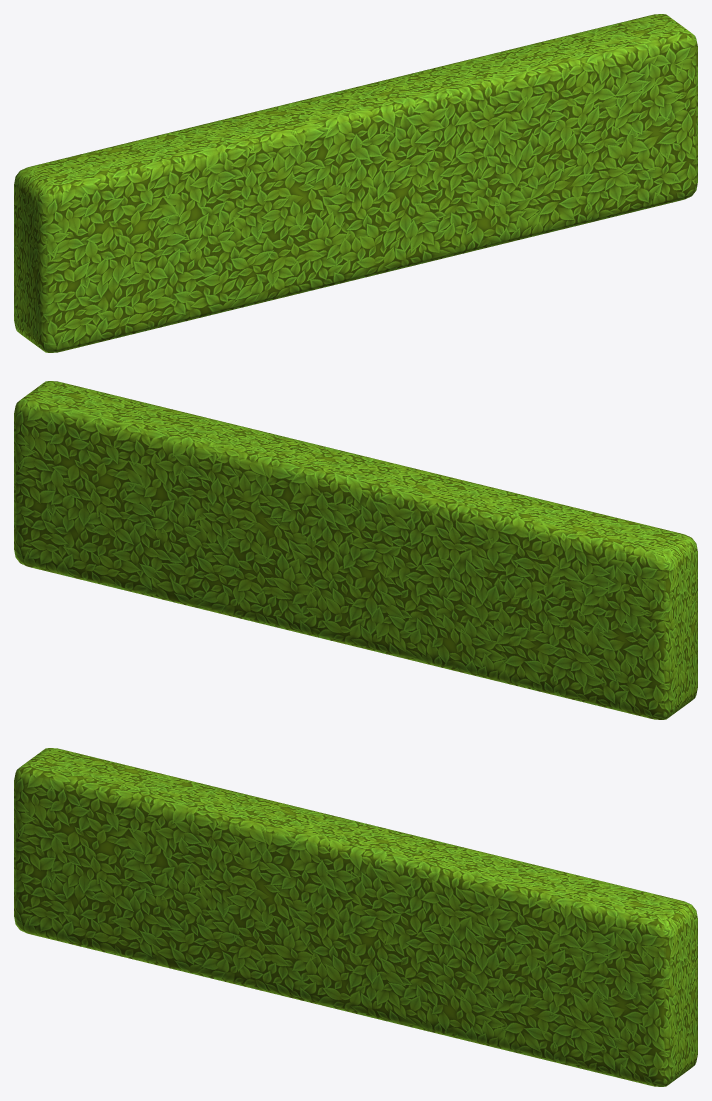
File: Hedge01_3.FBX
The picture shows the model from 3 angles, top to bottom: view 1: azimuth 30°, elevation 25°; view 2: azimuth 150°, elevation 25°; view 3: azimuth 330°, elevation 25°; orthographic projection.
Visible parts, largest first — view 1: Hedge01_3; view 2: Hedge01_3; view 3: Hedge01_3.
Boxes of the visible parts, x1=… form: Hedge01_3: x1=14, y1=14, x2=697, y2=352; Hedge01_3: x1=14, y1=381, x2=697, y2=719; Hedge01_3: x1=14, y1=748, x2=697, y2=1086.
Size of what is drawn, in the model's own units: 9 by 2.19 by 0.8086.
